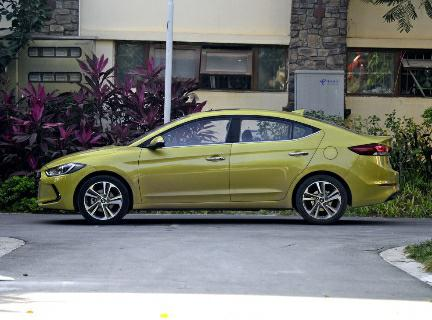现代-索纳塔九: (28, 102, 410, 232)
